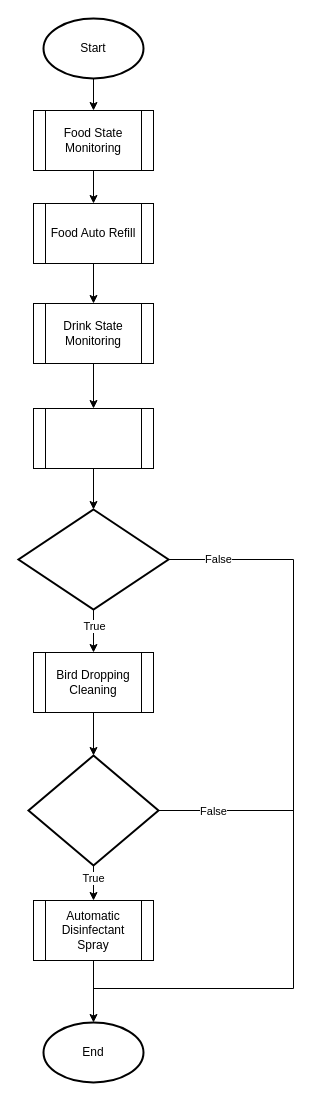
Some shapes in this 312 by 1100 pixel diagram are drawn without their labels. Here are the shapes that lost their labels. From the top down, the box of each, then its label:
(32, 408, 154, 468): Drink Auto Refill
(17, 508, 169, 610): rtc.hour() ==16
(27, 754, 159, 866): rtc.day() == DisinfectingDay
